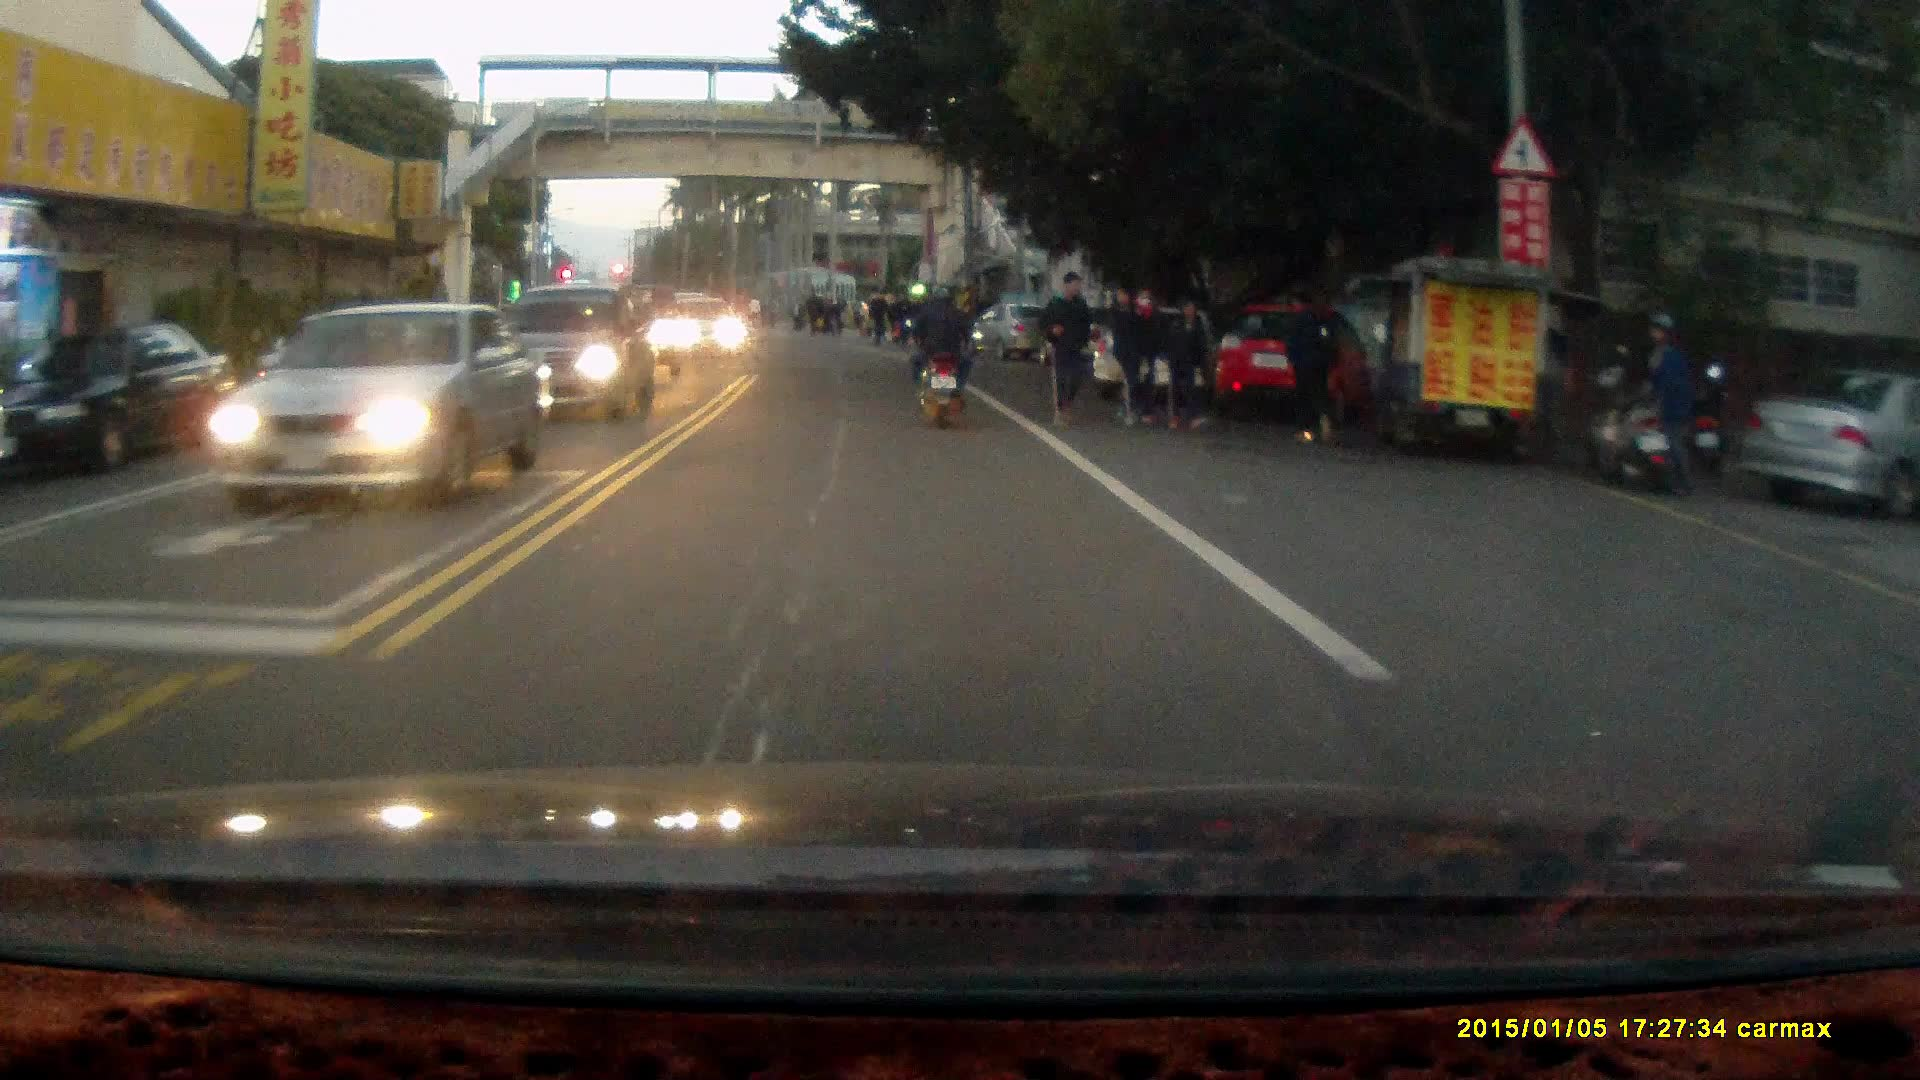pedestrian: (1648, 284, 1706, 467), (1278, 279, 1342, 439), (1037, 267, 1099, 427), (1162, 291, 1217, 433), (1105, 280, 1146, 424)
rider: (903, 278, 979, 433)
vehicle: (203, 299, 540, 501), (10, 319, 226, 476), (1736, 370, 1919, 524), (505, 282, 654, 421), (1084, 300, 1258, 407), (1209, 299, 1368, 417), (668, 294, 751, 358), (978, 300, 1061, 361)
